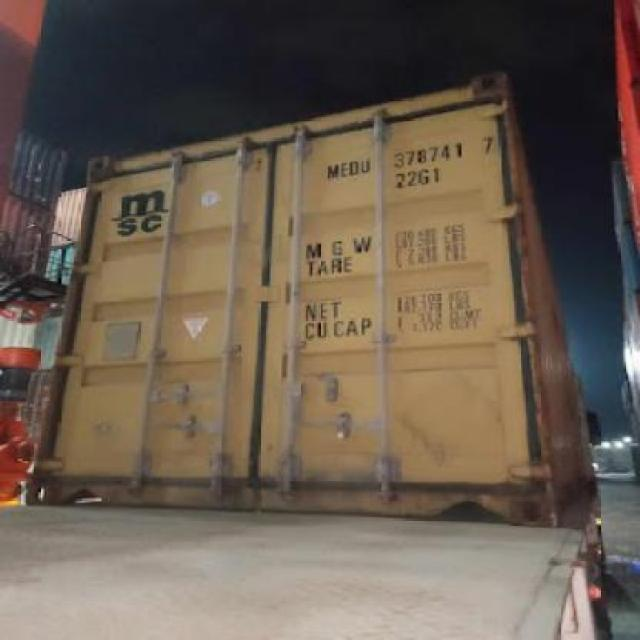ISO: (396, 166, 442, 186)
container_number: (328, 133, 496, 180)
